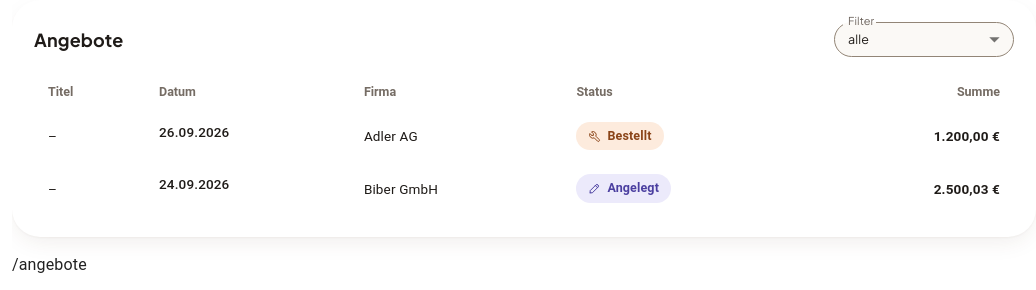
AngebotePage — die Uebersicht (Issue #127, Kriterium 8) › ruft mit dem Filter „bestellt" nur die bestellten ab und haelt ihn in der Adresse
This screenshot has width=1036, height=290.
Expected: the link "24.09.2026" is shown, [159,174,229,195]
Select "Bestellt" in the dropdown labelled "Filter" at (924, 40), box [834,22,1014,57]
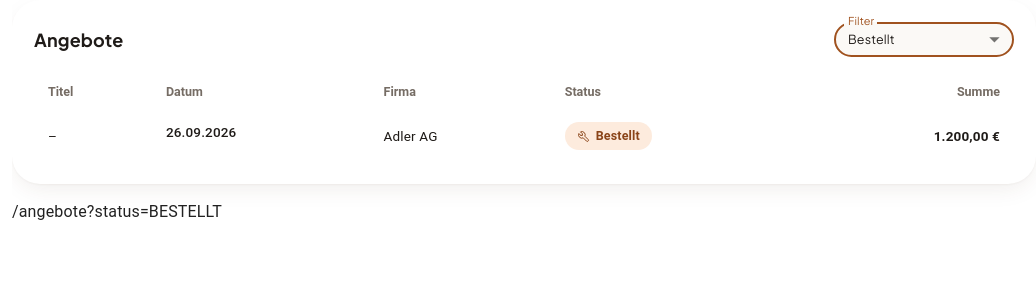
Expected: the link "26.09.2026" is shown, [166,122,236,142]
Now the text with test id "adresse" reads "/angebote?status=BESTELLT", box [12,202,222,222]
Now the link "24.09.2026" is gone
